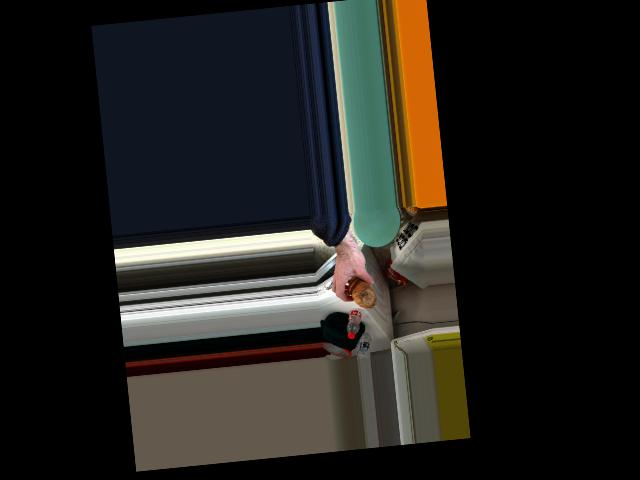sweet_potato: (345, 273, 377, 310)
